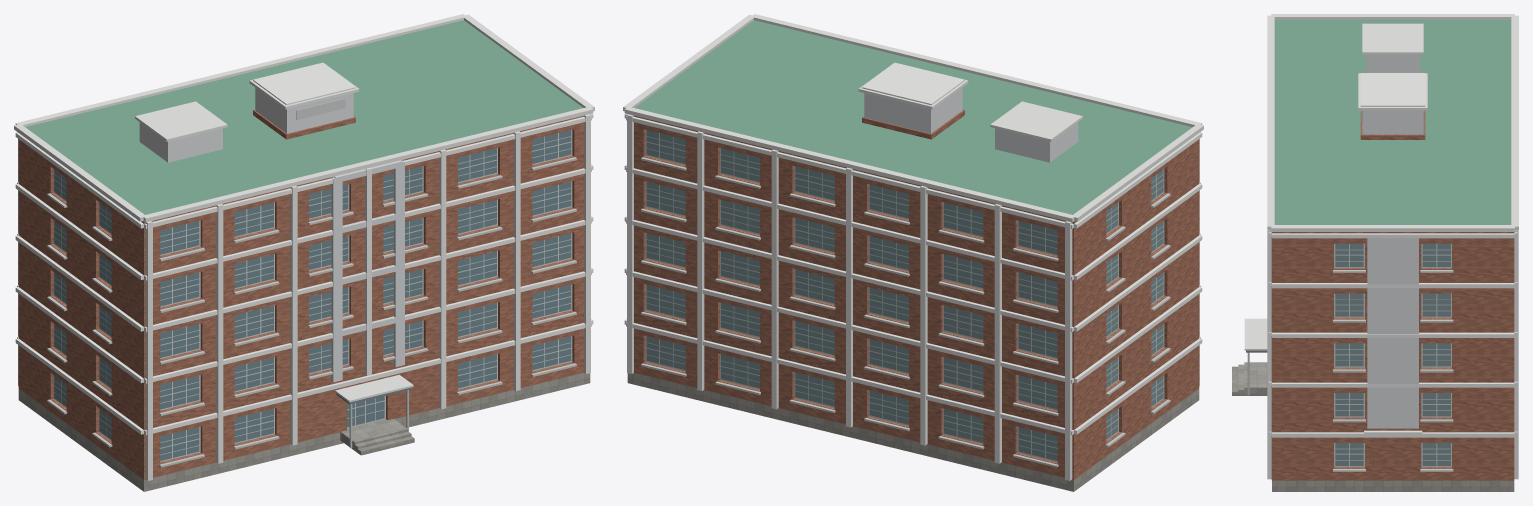
The picture shows the model from 3 angles, left to right: view 1: azimuth 30°, elevation 25°; view 2: azimuth 150°, elevation 25°; view 3: azimuth 270°, elevation 25°; orthographic projection. The views are drawn at different scales.
Parts seen in each view (by area): view 1: east-wing__brick, east-wing__roof, east-wing__band, east-wing__glass, east-wing__cap, east-wing__frame, east-wing__panel, east-wing__stone, east-wing__sill, east-wing__sideglass, east-wing__stair-front, east-wing__threshold-front; view 2: east-wing__brick, east-wing__roof, east-wing__band, east-wing__sideglass, east-wing__cap, east-wing__frame, east-wing__stone, east-wing__sill, east-wing__panel; view 3: east-wing__roof, east-wing__brick, east-wing__panel, east-wing__band, east-wing__cap, east-wing__sideglass, east-wing__stone, east-wing__frame, east-wing__sill, east-wing__threshold-front, east-wing__stair-front.
Part boxes in pixels (x1,y1,x2,y2): east-wing__brick: (18, 110, 590, 479); east-wing__roof: (25, 20, 583, 221); east-wing__band: (15, 62, 593, 480); east-wing__glass: (160, 130, 571, 460); east-wing__cap: (14, 14, 594, 402); east-wing__frame: (53, 98, 572, 461); east-wing__panel: (139, 88, 404, 382); east-wing__stone: (18, 373, 590, 491); east-wing__sill: (47, 157, 576, 467); east-wing__sideglass: (54, 169, 111, 439); east-wing__stair-front: (352, 427, 414, 455); east-wing__threshold-front: (340, 419, 404, 446); east-wing__brick: (627, 110, 1199, 479); east-wing__roof: (634, 20, 1192, 221); east-wing__band: (624, 62, 1202, 480); east-wing__sideglass: (646, 130, 1163, 460); east-wing__cap: (623, 14, 1203, 222); east-wing__frame: (645, 130, 1164, 461); east-wing__stone: (627, 373, 1199, 491); east-wing__sill: (641, 157, 1170, 467); east-wing__panel: (864, 88, 1078, 162); east-wing__roof: (1274, 19, 1511, 224); east-wing__brick: (1271, 110, 1514, 480); east-wing__panel: (1362, 54, 1423, 428); east-wing__band: (1267, 73, 1518, 479); east-wing__cap: (1244, 14, 1518, 350); east-wing__sideglass: (1335, 243, 1450, 465); east-wing__stone: (1272, 480, 1514, 491); east-wing__frame: (1334, 110, 1451, 466); east-wing__sill: (1333, 270, 1453, 471); east-wing__threshold-front: (1250, 362, 1267, 395); east-wing__stair-front: (1232, 362, 1250, 395).
Bounding box in the file's own units: 31.38 × 20.33 × 17.76.
13 materials, 2 textured.
